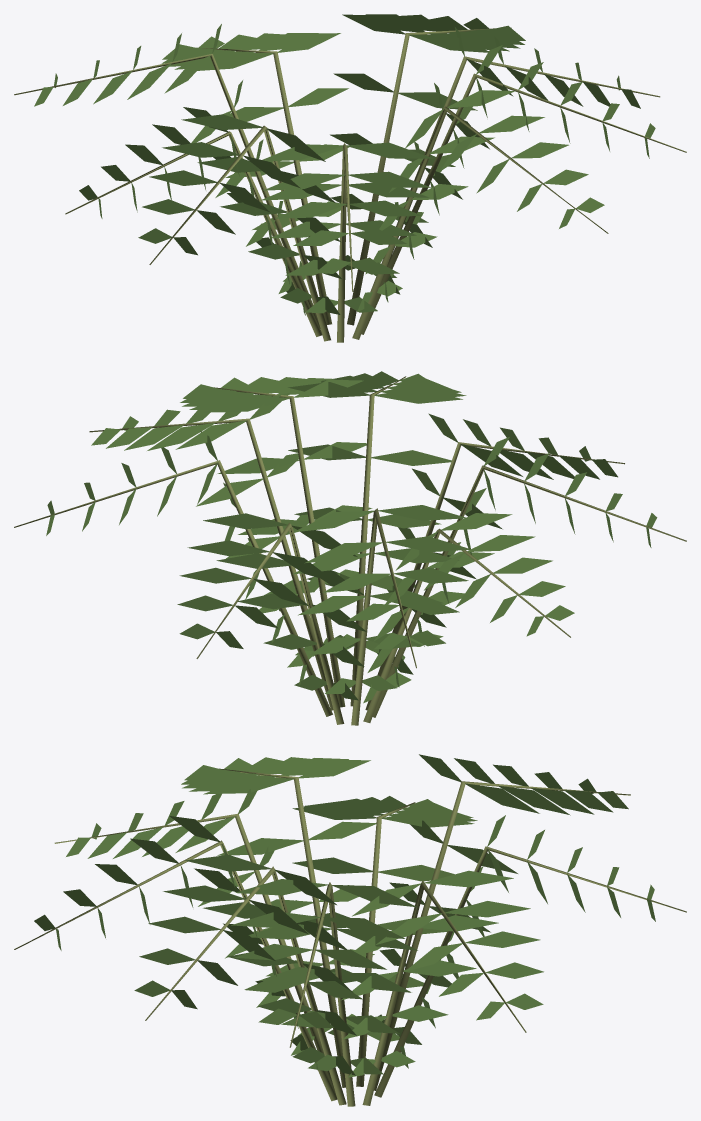
The model's file is lady-fern.glb.
The picture shows the model from 3 angles, top to bottom: view 1: azimuth 30°, elevation 25°; view 2: azimuth 150°, elevation 25°; view 3: azimuth 270°, elevation 25°; orthographic projection. The views are drawn at different scales.
Parts seen in each view (by area): view 1: understory_lady-fern_LOD0; view 2: understory_lady-fern_LOD0; view 3: understory_lady-fern_LOD0.
Part boxes in pixels (x1,y1,x2,y2): understory_lady-fern_LOD0: (14, 14, 686, 342); understory_lady-fern_LOD0: (14, 371, 686, 725); understory_lady-fern_LOD0: (14, 754, 686, 1106).
Bounding box in the file's own units: 1.83 × 0.8531 × 1.83.
